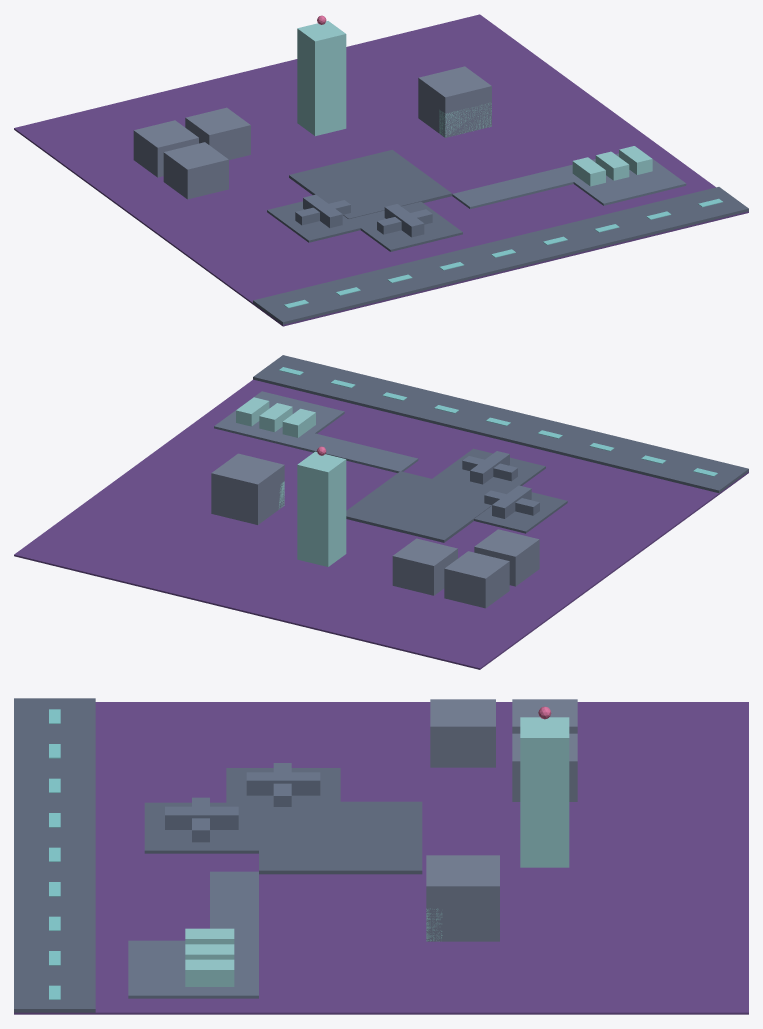
The model's file is stage_10.glb.
The picture shows the model from 3 angles, top to bottom: view 1: azimuth 30°, elevation 25°; view 2: azimuth 150°, elevation 25°; view 3: azimuth 270°, elevation 25°; orthographic projection. The views are drawn at different scales.
Parts seen in each view (by area): view 1: geometry_0; view 2: geometry_0; view 3: geometry_0.
Boxes of the visible parts, x1,y1,x2,y2 form: geometry_0: [14, 14, 748, 326]; geometry_0: [14, 355, 748, 669]; geometry_0: [14, 698, 748, 1014].
Size of the model in its own units: 9 by 2.06 by 9.
